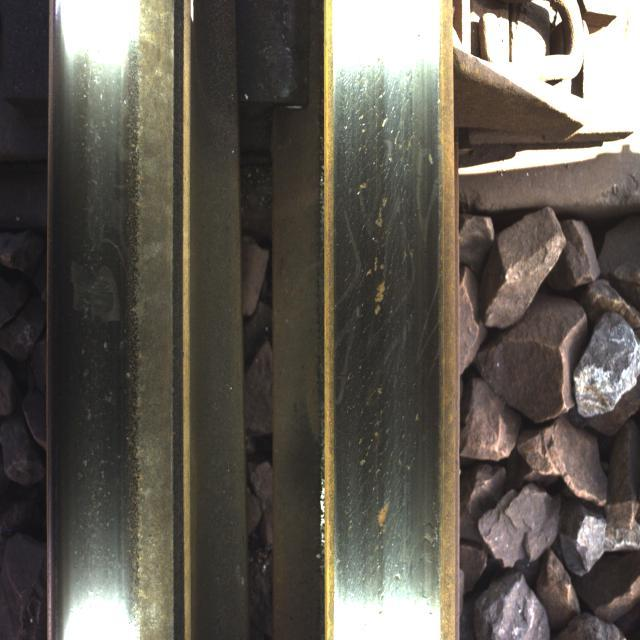normal: (71, 34, 160, 631)
scar: (341, 53, 401, 612)
